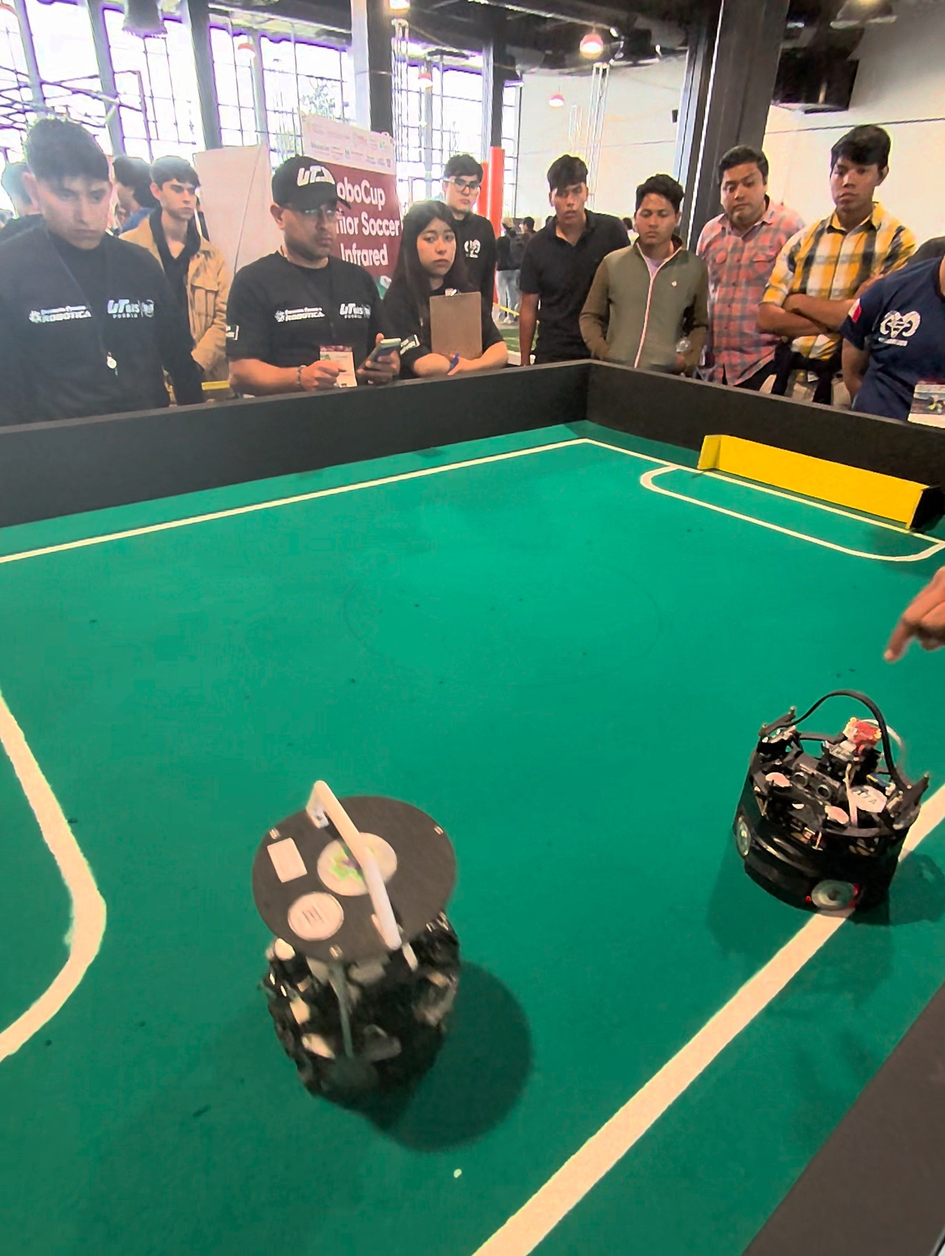Robot: (238, 768, 477, 1133), (735, 679, 939, 930)
